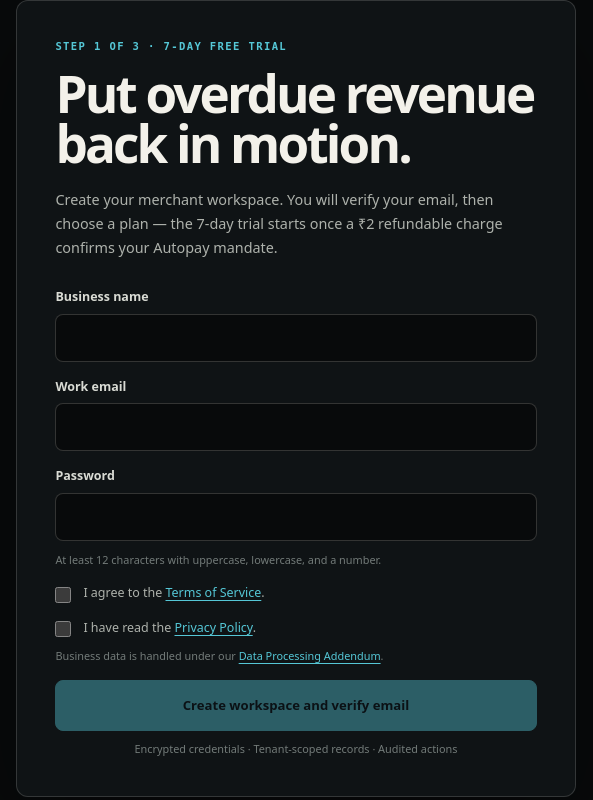
Test case: live registration › requires both legal acknowledgements and advances to email OTP verification
Expected: the button "Create workspace and verify email" is disabled, [55, 680, 537, 731]
In the field labelled "Business name": coordinates (296, 338) [55, 314, 537, 362], type "Acme Finance"
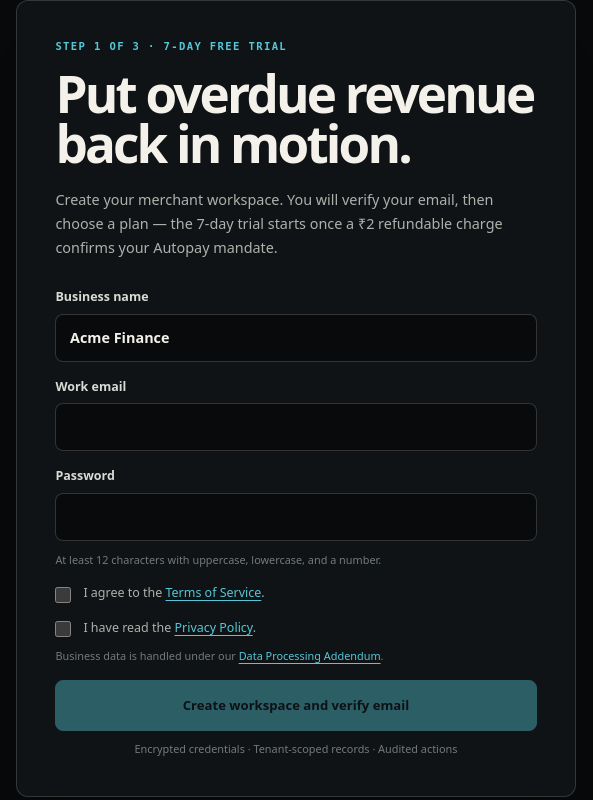
In the field labelled "Work email": coordinates (296, 428) [55, 404, 537, 452], type "owner@acme.test"
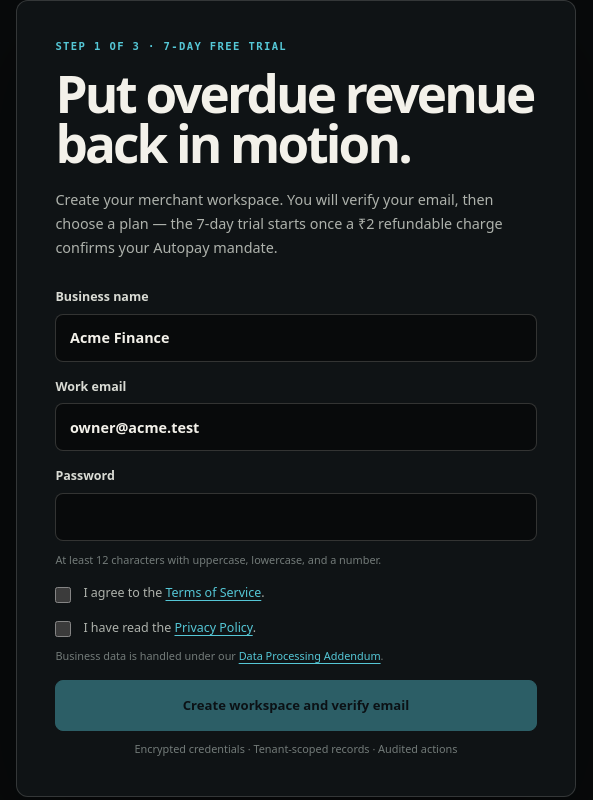
In the password field labelled "Password": coordinates (296, 517) [55, 493, 537, 541], type "CorrectHorse9Battery"
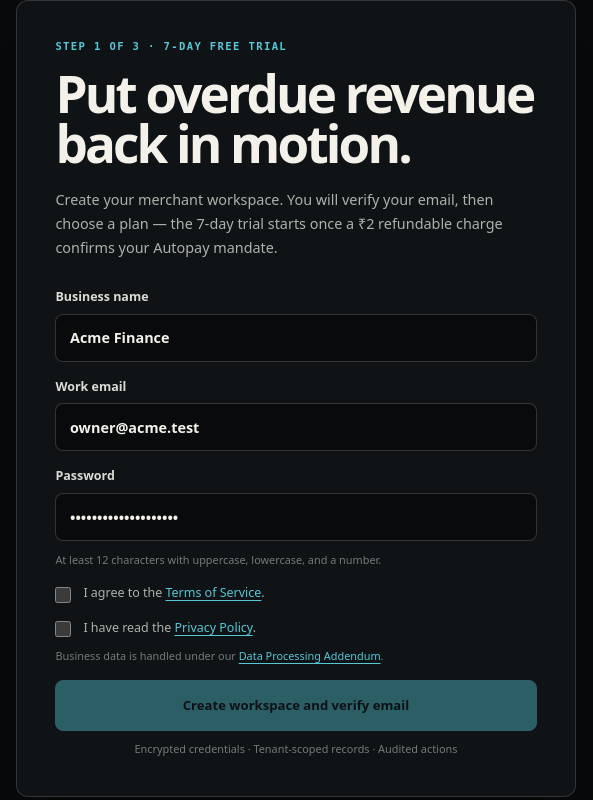
Click the checkbox labelled "I agree to the Terms of Service .": coordinates (63, 594) [55, 586, 71, 602]
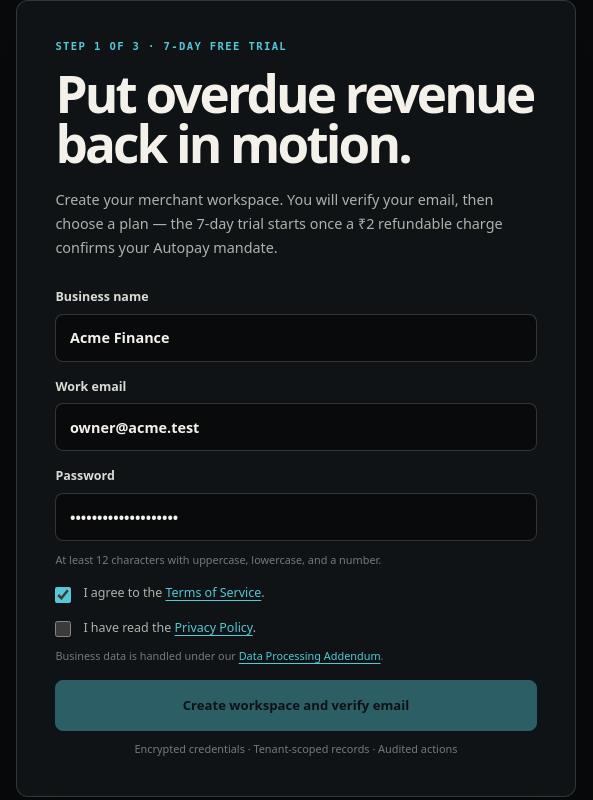
Expected: the button "Create workspace and verify email" is disabled, [55, 680, 537, 731]
Click the checkbox labelled "I have read the Privacy Policy .": coordinates (63, 629) [55, 621, 71, 637]
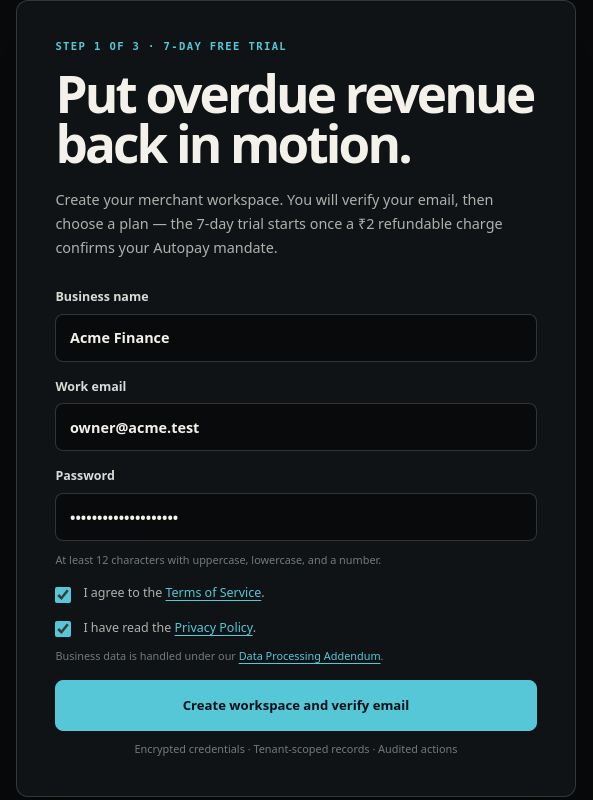
Now the button "Create workspace and verify email" is enabled
Click the button "Create workspace and verify email": coordinates (296, 706) [55, 680, 537, 731]
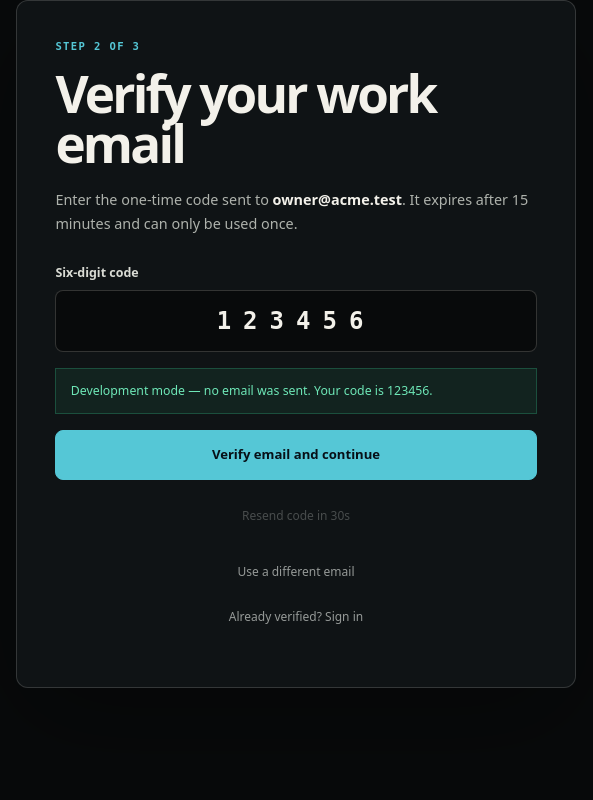
Now the heading "Verify your work email" is shown, box [55, 58, 435, 178]
Now the field labelled "Six-digit code" holds "123456", box [55, 290, 537, 352]
Now the text "Development mode — no email was sent. Your code is 123456." is shown, box [55, 368, 537, 414]
